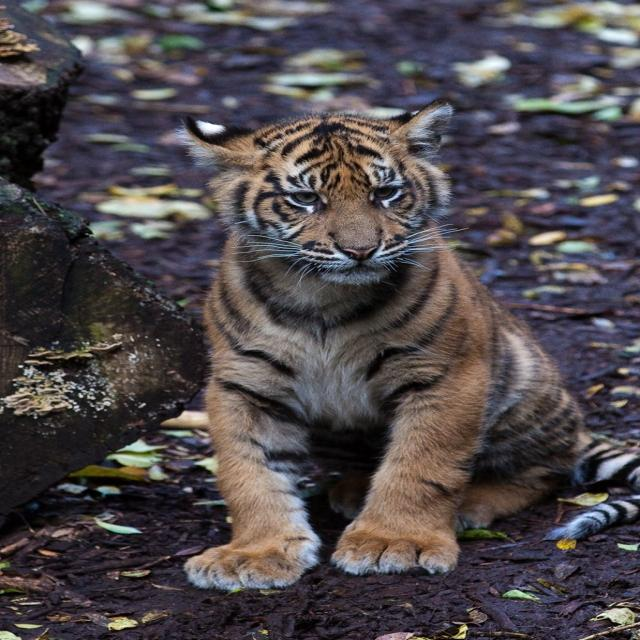Tiger: (185, 101, 640, 586)
